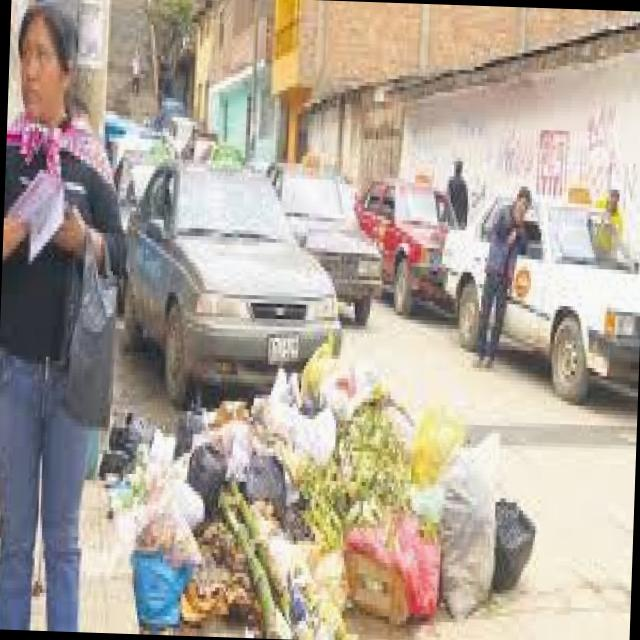garbage: (99, 358, 533, 640)
